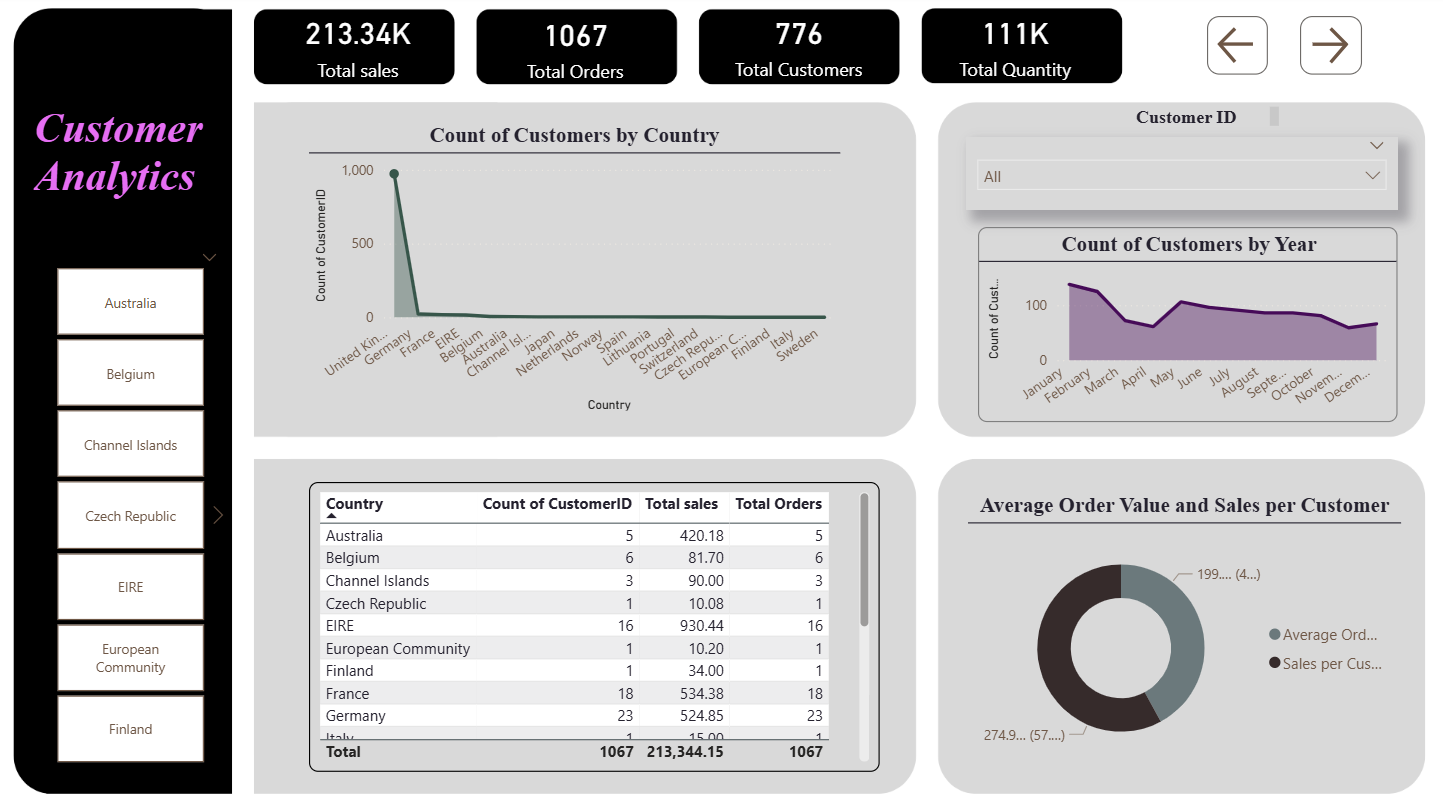

The dashboard page shown, as its layout file describes it:
{"tool":"powerbi","page":{"name":"Customer Analytics","canvas":[1280,720],"ordinal":3},"visuals":[{"type":"actionButton","box":[1153.9,17.9,54.9,52.2],"z":0},{"type":"actionButton","box":[1071.3,18.1,54.3,51.9],"z":1000},{"type":"textbox","box":[1081,68.8,89.3,43.4],"z":2000},{"type":"textbox","box":[25.3,90.5,179.8,133.9],"z":3000},{"type":"slicer","fields":{"Values":["data.Country"]},"box":[25.3,224.4,179.8,462.1],"z":4000},{"type":"card","fields":{"Values":["data.Total sales"]},"box":[221.3,6.7,193.3,70.7],"z":5000},{"type":"card","fields":{"Values":["data.Total Orders"]},"box":[414.7,1.3,192,84],"z":6000},{"type":"card","fields":{"Values":["data.Total Customers"]},"box":[606.7,0,205.3,84],"z":7000},{"type":"card","fields":{"Values":["data.Total Quantity"]},"box":[750.7,0,300,84],"z":8000},{"type":"donutChart","fields":{"Y":["data.Average Order Value","data.Sales per Customer"]},"box":[859,440.5,384.2,247],"z":9000},{"type":"lineChart","title":"Count of Customers by Country","fields":{"Y":["CountNonNull(data.CustomerID)"],"Category":["data.Country"]},"box":[274.4,112.5,470.7,259.3],"z":10000},{"type":"slicer","fields":{"Values":["data.CustomerID"]},"box":[857.2,125,383.3,64.6],"z":11000},{"type":"textbox","box":[1002.8,93.4,137.4,38.5],"z":12000},{"type":"lineChart","title":"Count of Customers by Year","fields":{"Category":["data.InvoiceDate.Variation.Date Hierarchy.Month","data.InvoiceDate.Variation.Date Hierarchy.Day"],"Y":["CountNonNull(data.CustomerID)"]},"box":[868.2,204.7,372.3,173.1],"z":13000},{"type":"tableEx","fields":{"Values":["data.Country","CountNonNull(data.CustomerID)","data.Total sales","data.Total Orders"]},"box":[274.7,431.3,505.5,256.9],"z":14000}]}

Visuals, with their boxes in screenshot pixels (x1, y1, x2, y2), scaled from the page's 1280x720 canvas onto the 1443x800 screenshot:
actionButton: x1=1301, y1=20, x2=1363, y2=78
actionButton: x1=1208, y1=20, x2=1269, y2=78
textbox: x1=1219, y1=76, x2=1319, y2=125
textbox: x1=29, y1=101, x2=231, y2=249
slicer - data.Country: x1=29, y1=249, x2=231, y2=763
card - data.Total sales: x1=249, y1=7, x2=467, y2=86
card - data.Total Orders: x1=468, y1=1, x2=684, y2=95
card - data.Total Customers: x1=684, y1=0, x2=915, y2=93
card - data.Total Quantity: x1=846, y1=0, x2=1185, y2=93
donutChart - data.Average Order Value x data.Sales per Customer: x1=968, y1=489, x2=1402, y2=764
"Count of Customers by Country" lineChart: x1=309, y1=125, x2=840, y2=413
slicer - data.CustomerID: x1=966, y1=139, x2=1398, y2=211
textbox: x1=1131, y1=104, x2=1285, y2=147
"Count of Customers by Year" lineChart: x1=979, y1=227, x2=1398, y2=420
tableEx - data.Country x CountNonNull(data.CustomerID): x1=310, y1=479, x2=880, y2=765
